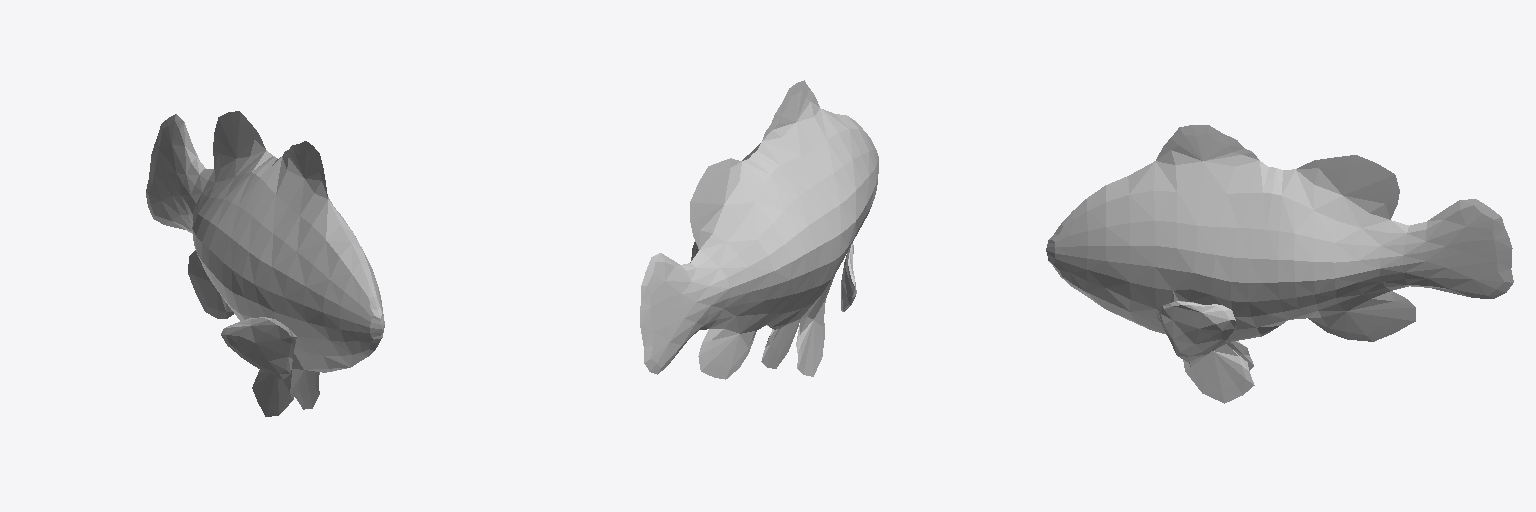
The model's file is ClownFish2.obj.
3 renders of one model, left to right at view 1: azimuth 30°, elevation 25°; view 2: azimuth 150°, elevation 25°; view 3: azimuth 270°, elevation 25°, orthographic.
Visible parts, largest first — view 1: Plane; view 2: Plane; view 3: Plane.
Part boxes in pixels (bbox=[...]): Plane: bbox=[146, 111, 384, 416]; Plane: bbox=[640, 80, 878, 379]; Plane: bbox=[1046, 125, 1513, 403].
Bounding box in the file's own units: 0.7728 × 1.66 × 2.54.